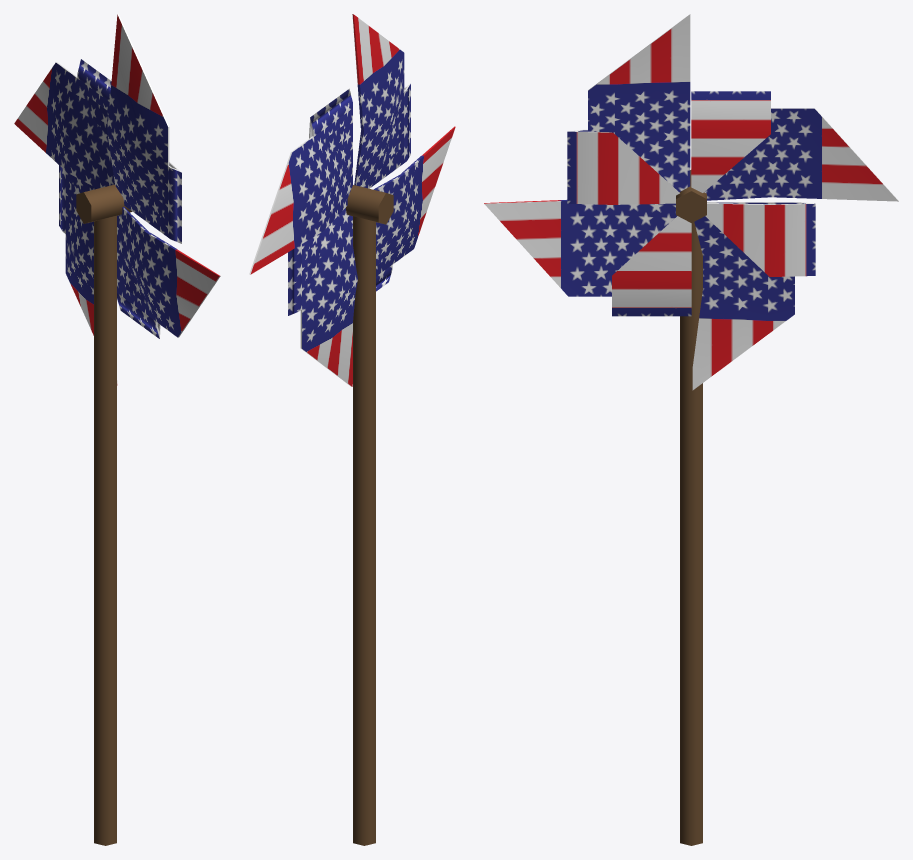
Rendered from MM_PaperWindmill 1.fbx.
The picture shows the model from 3 angles, left to right: view 1: azimuth 30°, elevation 25°; view 2: azimuth 150°, elevation 25°; view 3: azimuth 270°, elevation 25°; orthographic projection.
Visible parts, largest first — view 1: MM_PaperWindmill_Spinner, MM_PaperWindmill; view 2: MM_PaperWindmill_Spinner, MM_PaperWindmill; view 3: MM_PaperWindmill_Spinner, MM_PaperWindmill.
Part boxes in pixels (left/top/right/bottom): MM_PaperWindmill_Spinner: left=14, top=14, right=220, bottom=385; MM_PaperWindmill: left=76, top=184, right=132, bottom=845; MM_PaperWindmill_Spinner: left=249, top=14, right=455, bottom=386; MM_PaperWindmill: left=346, top=185, right=393, bottom=845; MM_PaperWindmill_Spinner: left=484, top=14, right=898, bottom=390; MM_PaperWindmill: left=676, top=170, right=706, bottom=845.
Size of the model in its own units: 4.81 by 86.97 by 39.31.
